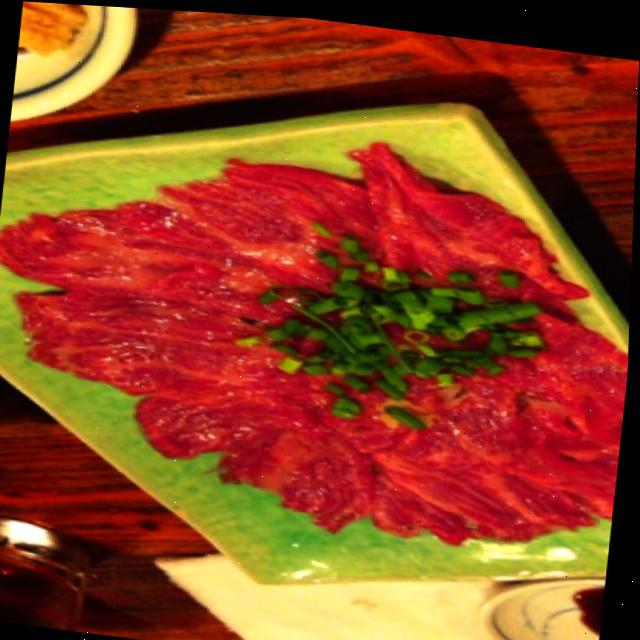刺身生食: (0, 48, 639, 640)
